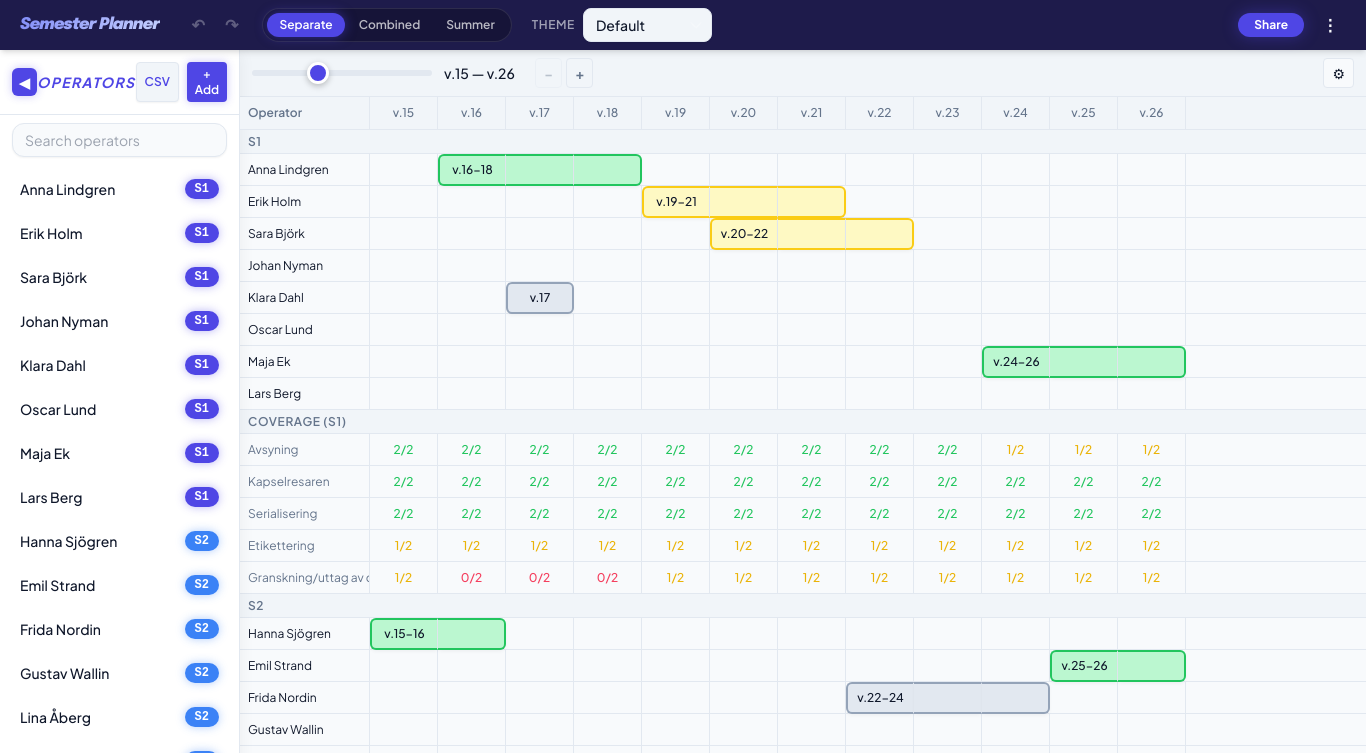
Test: App › undo button reverts a shift-mode change
Expected: the text "COVERAGE (S1)" is shown, [248,414,347,428]
Expected: the text "COVERAGE (All Operators)" is not shown
Click the button "Combined" at x=389, y=25, box [347,13,432,37]
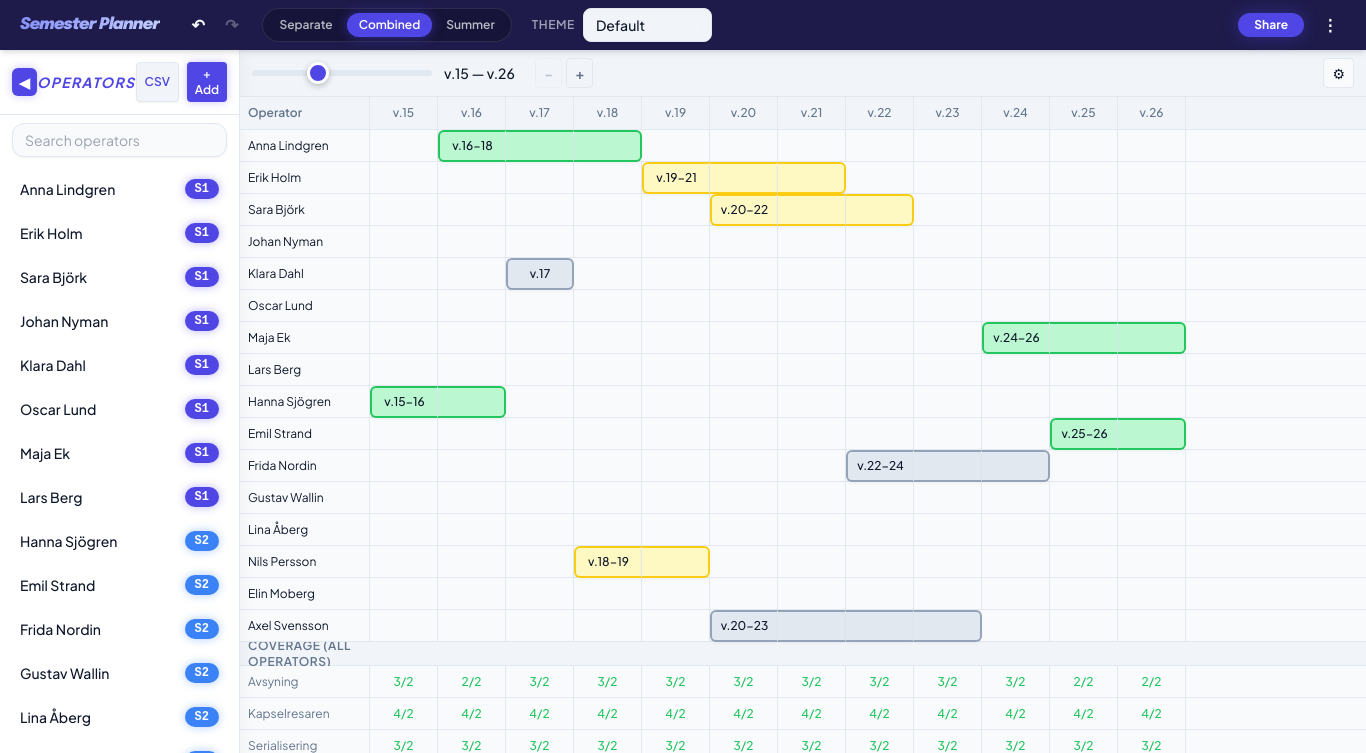
Now the text "COVERAGE (All Operators)" is shown, box [248,638,351,668]
Click the button named "Undo" at x=198, y=25, box [184,9,213,41]
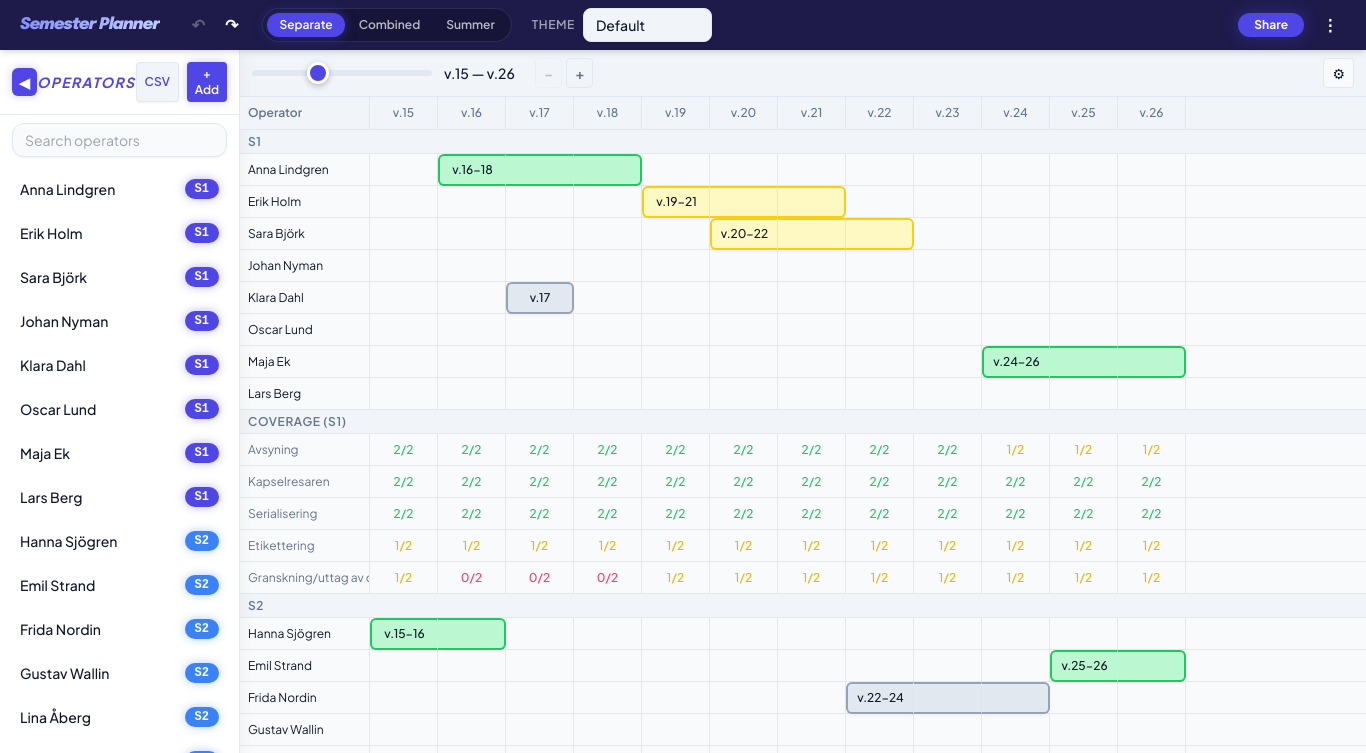
Now the text "COVERAGE (S1)" is shown, box [248,414,347,428]
Now the text "COVERAGE (All Operators)" is gone
